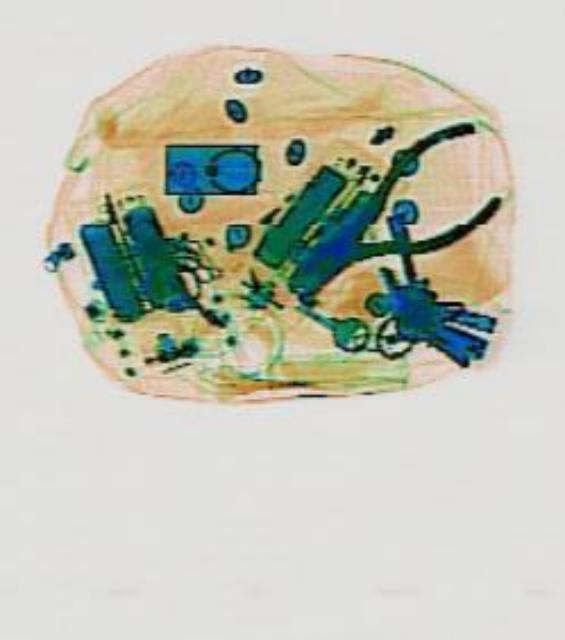Pliers: (264, 103, 517, 329)
